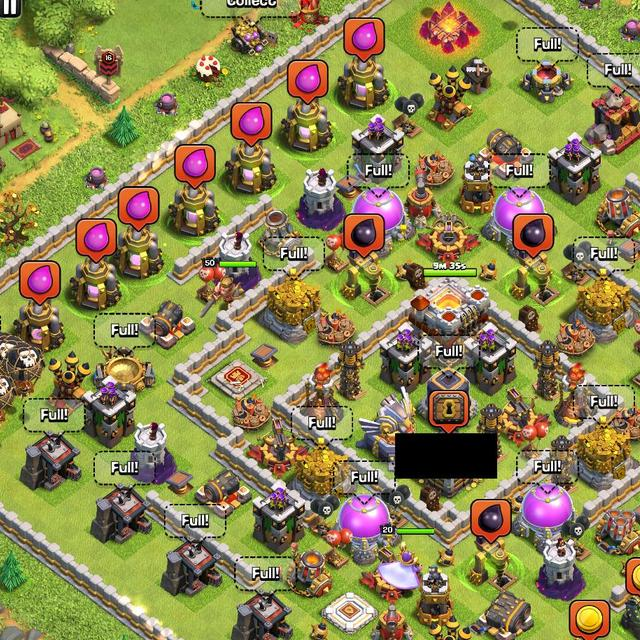FullCoin: (571, 599, 608, 640), (626, 557, 640, 597)
FullElixir: (20, 261, 60, 305), (77, 219, 116, 264), (176, 144, 214, 189), (232, 104, 272, 146), (119, 187, 158, 230), (289, 60, 327, 104), (346, 19, 384, 60)
FullElixirNegro: (512, 213, 555, 258), (472, 500, 512, 545), (346, 214, 385, 258)
